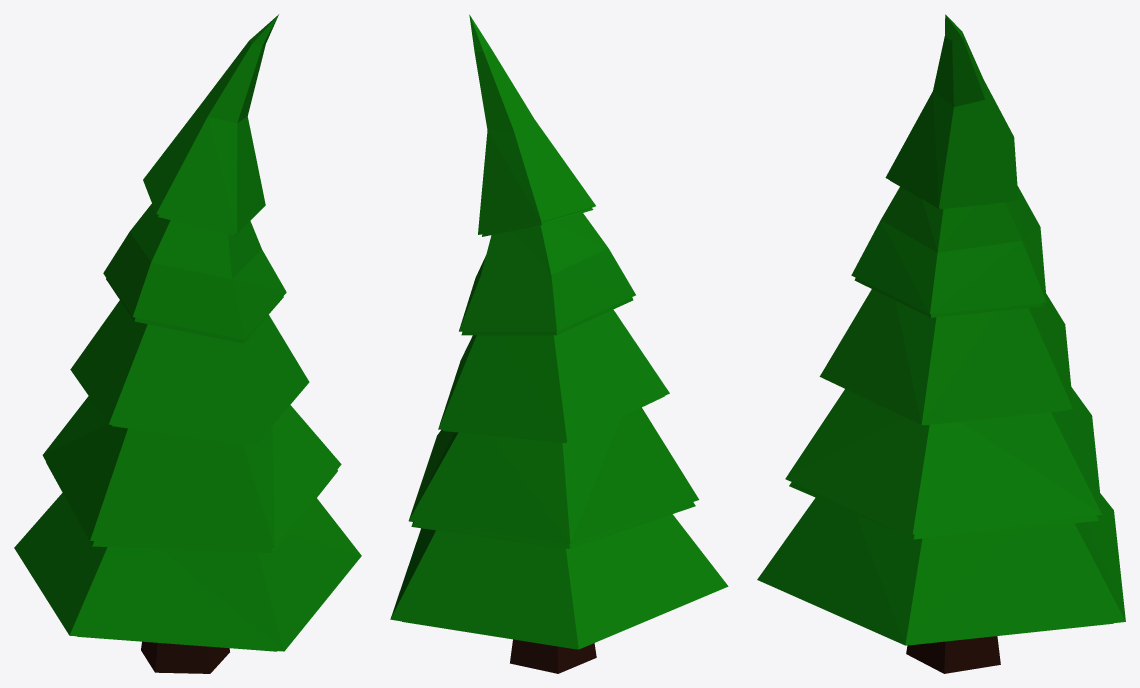
File: tree.obj
3 renders of one model, left to right at view 1: azimuth 30°, elevation 25°; view 2: azimuth 150°, elevation 25°; view 3: azimuth 270°, elevation 25°, orthographic. The views are drawn at different scales.
Parts seen in each view (by area): view 1: Cylinder.001; view 2: Cylinder.001; view 3: Cylinder.001.
Boxes of the visible parts, bbox=[...] form: Cylinder.001: bbox=[14, 14, 361, 673]; Cylinder.001: bbox=[390, 14, 728, 673]; Cylinder.001: bbox=[757, 14, 1125, 673].
Size of the model in its own units: 2.05 by 4.07 by 1.98.
